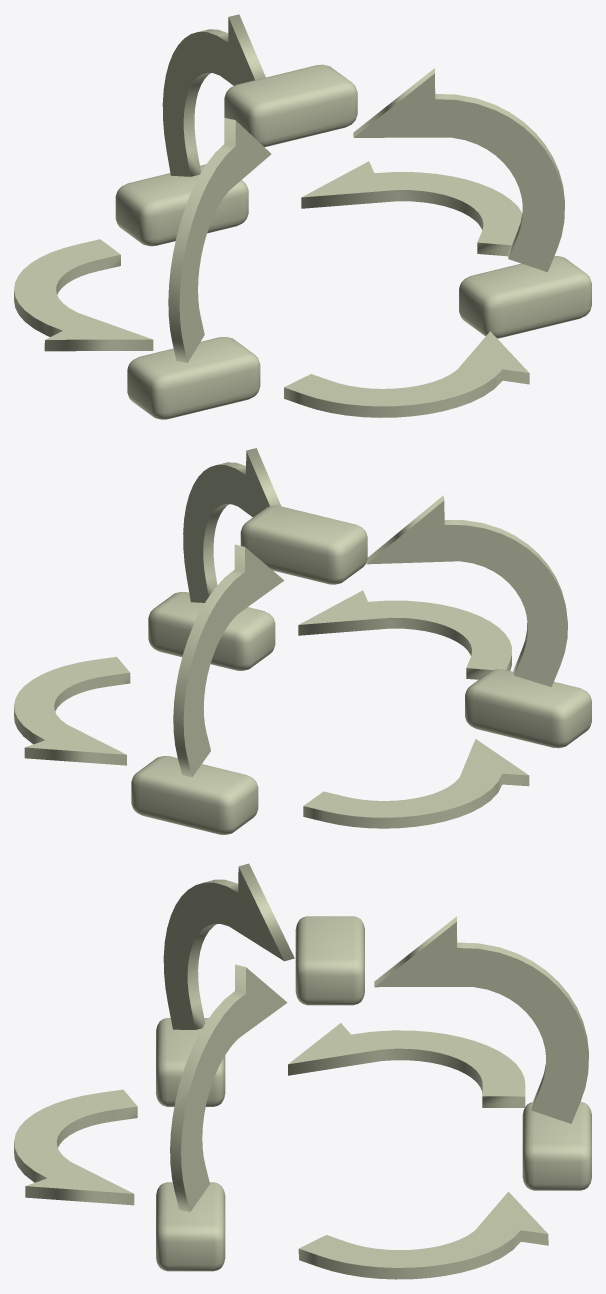
File: sortcirc.obj
The picture shows the model from 3 angles, top to bottom: view 1: azimuth 30°, elevation 25°; view 2: azimuth 150°, elevation 25°; view 3: azimuth 270°, elevation 25°; orthographic projection. The views are drawn at different scales.
Parts seen in each view (by area): view 1: Object002; view 2: Object002; view 3: Object002.
Part boxes in pixels (x1,y1,x2,y2): Object002: (14,14,591,419); Object002: (14,448,591,834); Object002: (14,863,591,1279).
Size of the model in its own units: 1.85 by 0.8841 by 1.84.
